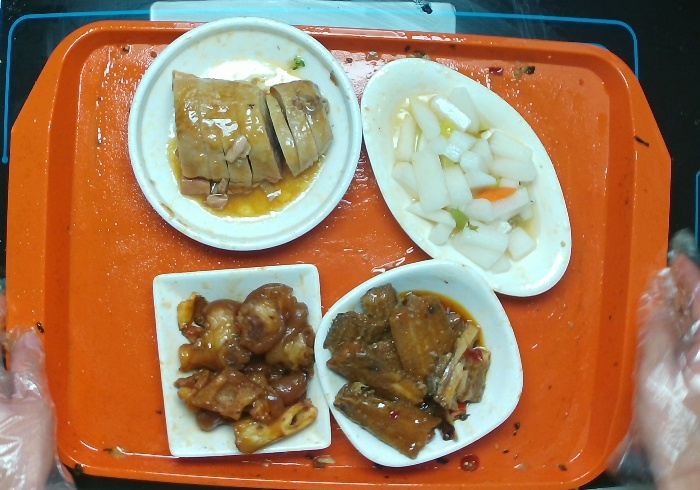HZYJPL-Si_Fang_Die: (148, 262, 334, 462)
HZYJPL-Si_Fang_Yuan_Die: (313, 255, 525, 470)
HZYJPL-Xiao_Yu_Die: (357, 55, 574, 301)
HZYJPL-Xiao_Yuan_Die: (124, 16, 365, 255)
